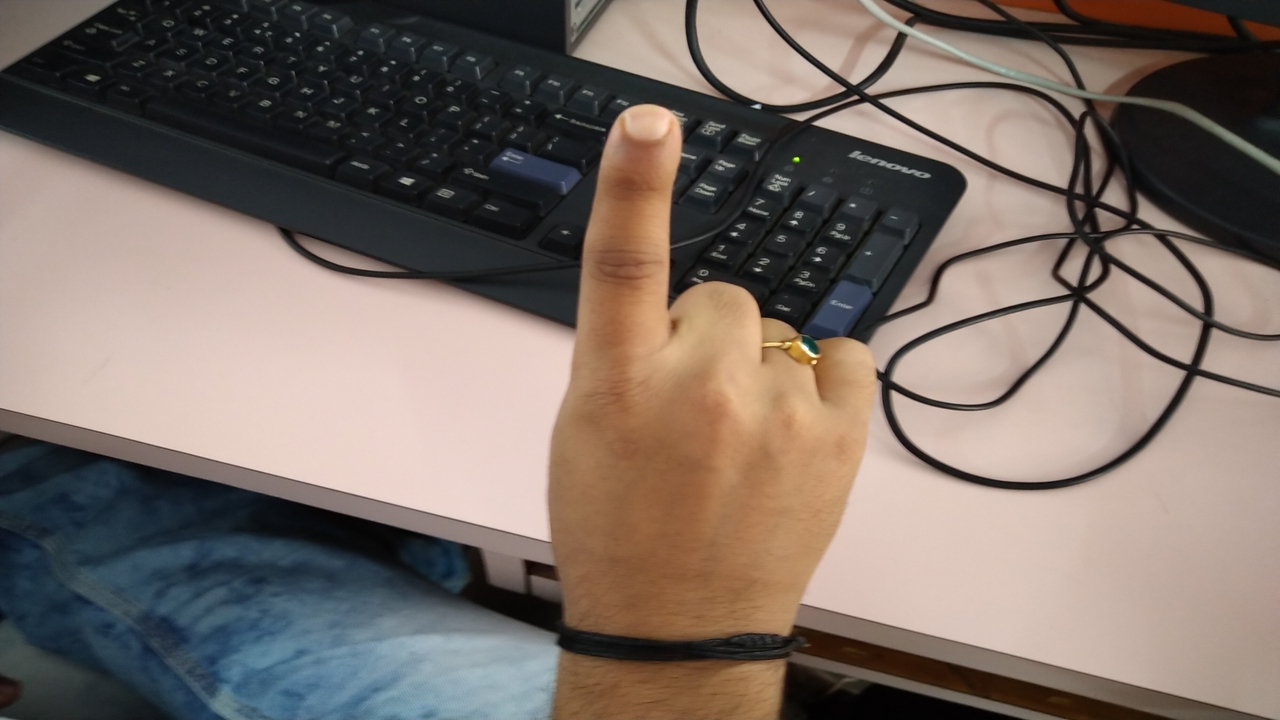fingertip: (600, 96, 682, 174)
